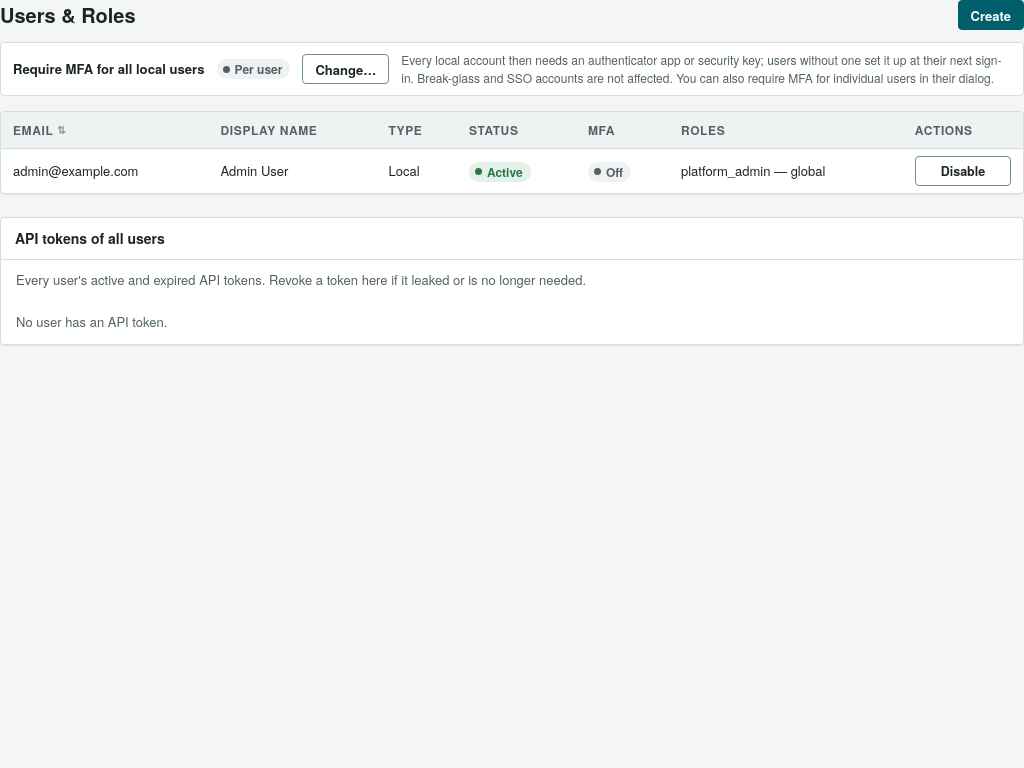
Test: UsersPage — set password › requires MFA for all local users after confirmation
Expected: the text "Require MFA for all local users" is shown, [13, 59, 204, 79]
Click the button "Change…". click: (346, 69)
box: [302, 54, 389, 84]
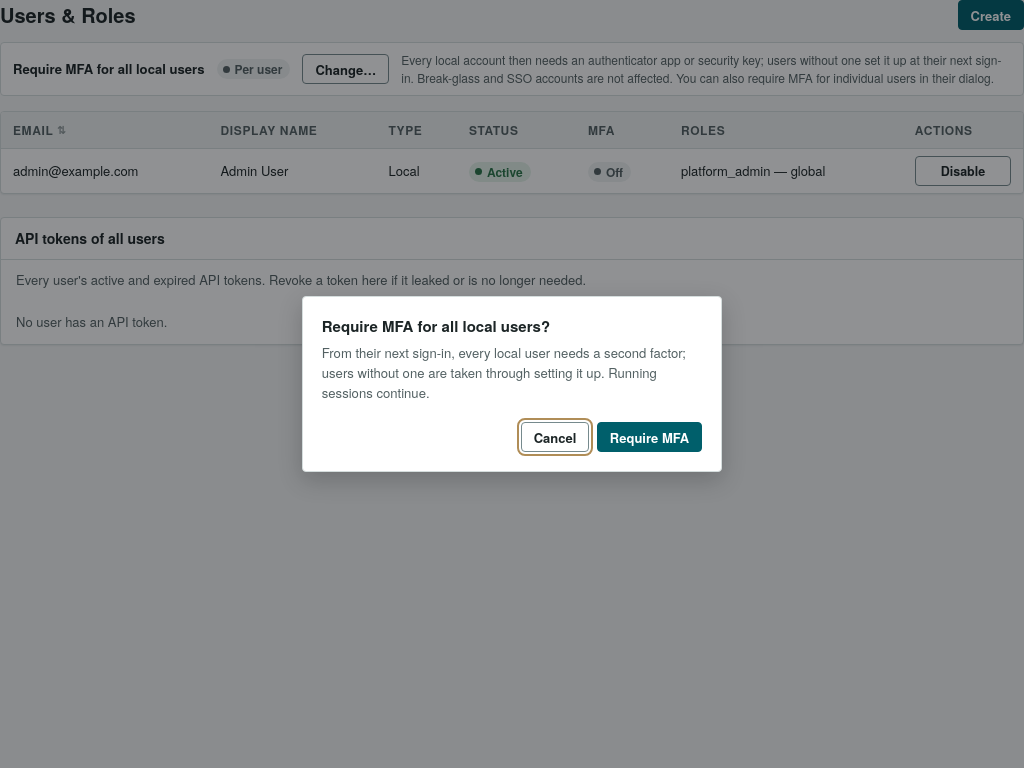
Click the button "Require MFA". click: (650, 437)
box: [597, 422, 702, 452]
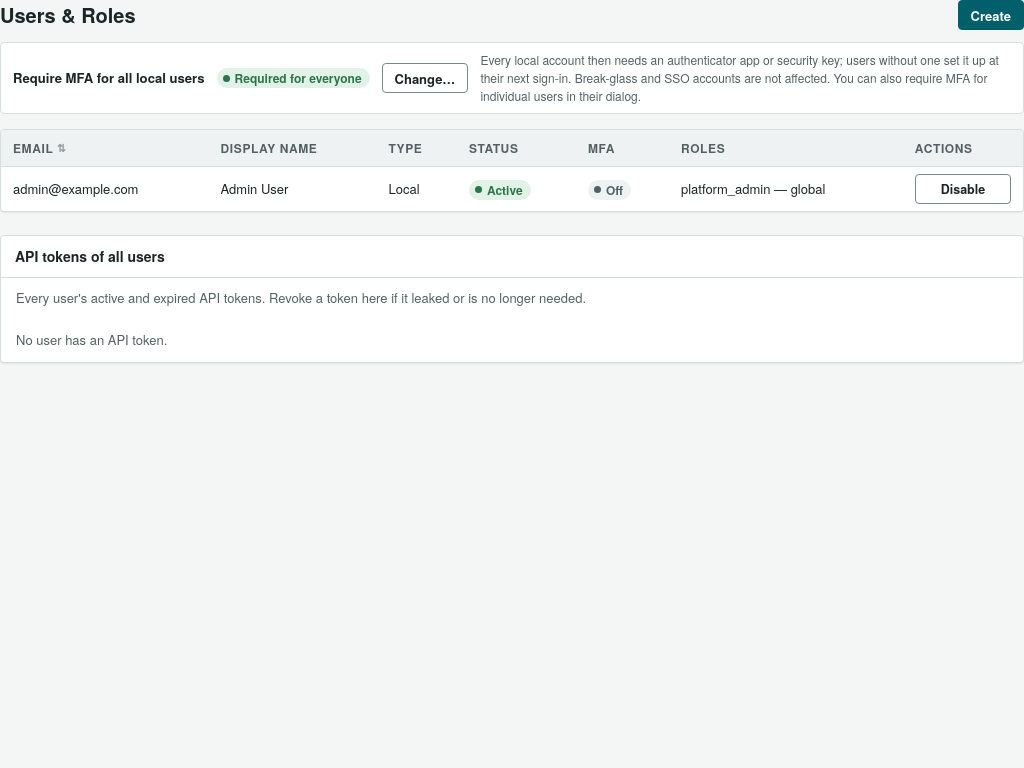
Expected: the text "Required for everyone" is shown, [216, 68, 370, 88]
